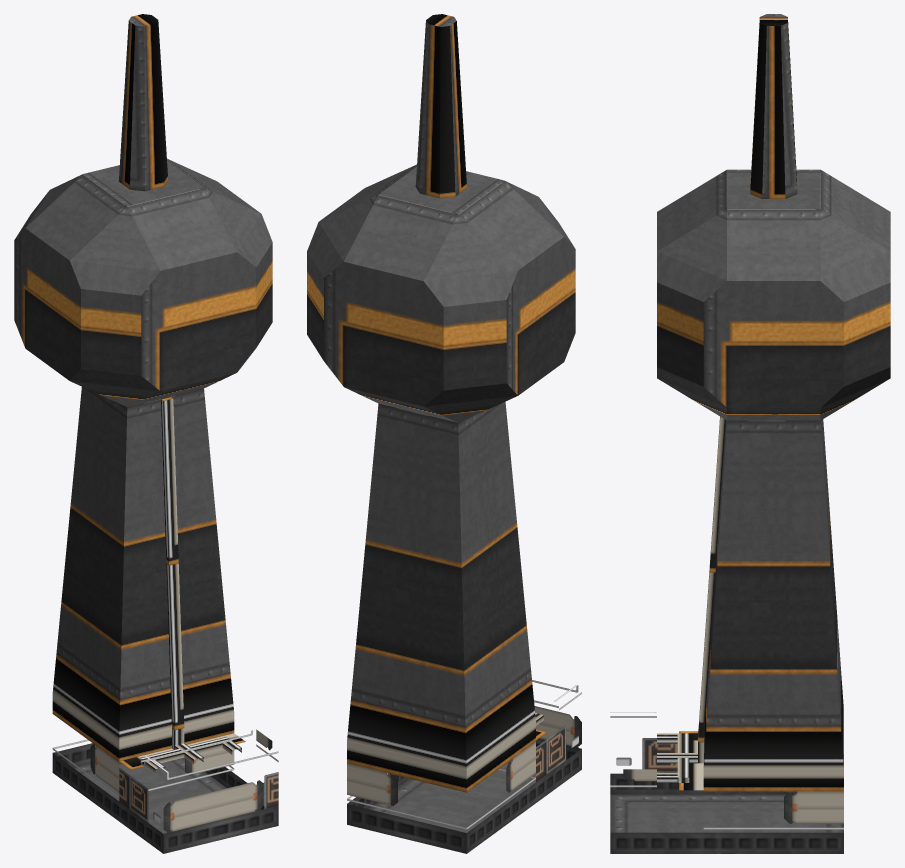
File: radio_tower.obj
3 renders of one model, left to right at view 1: azimuth 30°, elevation 25°; view 2: azimuth 150°, elevation 25°; view 3: azimuth 270°, elevation 25°, orthographic. The views are drawn at different scales.
Parts seen in each view (by area): view 1: base; view 2: base; view 3: base.
Boxes of the visible parts, bbox=[...] form: base: bbox=[14, 14, 278, 853]; base: bbox=[307, 14, 581, 853]; base: bbox=[610, 14, 890, 853].
Size of the model in its own units: 5 by 19 by 6.
